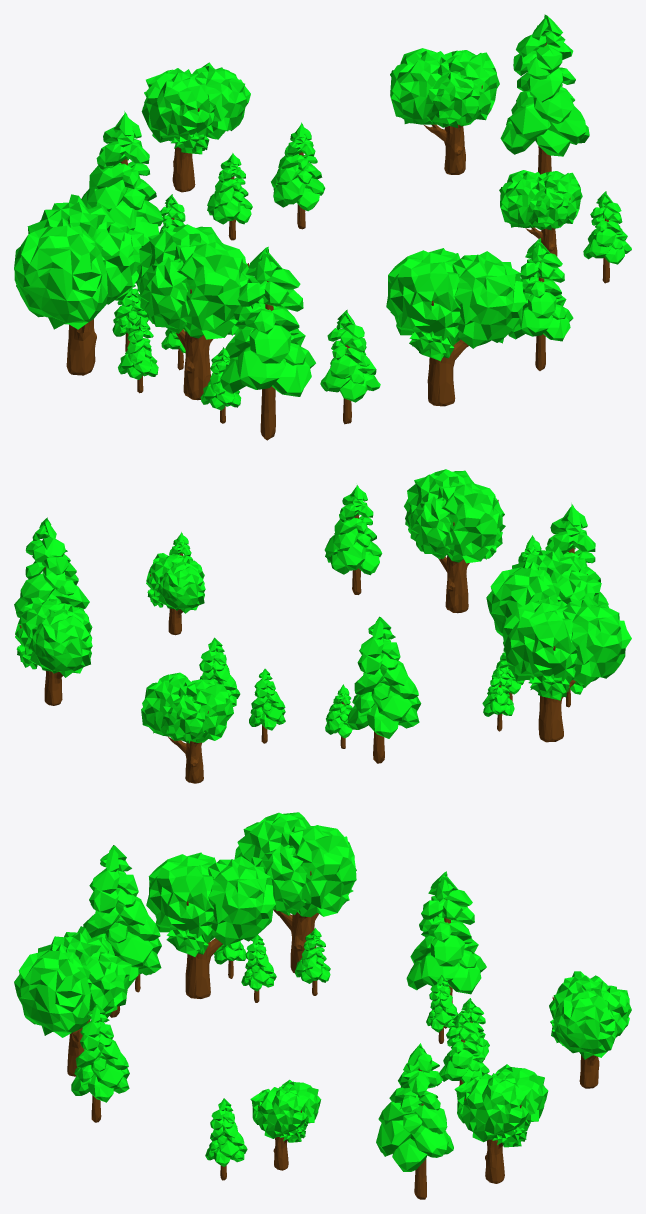
The model's file is Trees.fbx.
3 views of the same model, one above another, from view 1: azimuth 30°, elevation 25°; view 2: azimuth 150°, elevation 25°; view 3: azimuth 270°, elevation 25° (orthographic). The views are drawn at different scales.
Parts seen in each view (by area): view 1: Oak_1.004, Oak_1.001, Oak_1.003, Pine-2.002, Oak_1.002, Oak_1.005, Pine-2.005, Pine-2.004, Oak_1, Pine-2.001, Pine-1.006, Pine-2 (+6 smaller); view 2: Oak_1.004, Oak_1.001, Oak_1.005, Pine-2.004, Oak_1.002, Oak_1.003, Pine-2.005, Pine-2.001, Oak_1, Pine-2.002, Pine-2.003, Pine-2 (+2 smaller); view 3: Oak_1.003, Oak_1.004, Oak_1.001, Pine-2.005, Oak_1.002, Pine-2.004, Pine-2.002, Oak_1.005, Pine-2.001, Oak_1, Pine-2, Pine-1.001 (+5 smaller).
Part boxes in pixels (left/top/right/bottom): Oak_1.004: left=14, top=194, right=143, bottom=375; Oak_1.001: left=386, top=248, right=526, bottom=406; Oak_1.003: left=136, top=224, right=253, bottom=400; Pine-2.002: left=220, top=246, right=315, bottom=440; Oak_1.002: left=390, top=48, right=499, bottom=174; Oak_1.005: left=141, top=62, right=250, bottom=192; Pine-2.005: left=500, top=14, right=589, bottom=174; Pine-2.004: left=81, top=111, right=163, bottom=244; Oak_1: left=499, top=170, right=582, bottom=256; Pine-2.001: left=508, top=238, right=573, bottom=370; Pine-1.006: left=320, top=309, right=380, bottom=424; Pine-2: left=271, top=122, right=325, bottom=229; Oak_1.004: left=502, top=596, right=631, bottom=742; Oak_1.001: left=404, top=469, right=505, bottom=613; Oak_1.005: left=141, top=672, right=233, bottom=783; Pine-2.004: left=347, top=616, right=421, bottom=763; Oak_1.002: left=15, top=597, right=92, bottom=705; Oak_1.003: left=486, top=545, right=601, bottom=636; Pine-2.005: left=14, top=517, right=89, bottom=617; Pine-2.001: left=324, top=485, right=382, bottom=594; Oak_1: left=146, top=553, right=205, bottom=635; Pine-2.002: left=545, top=503, right=608, bottom=605; Pine-2.003: left=249, top=668, right=285, bottom=743; Pine-2: left=199, top=637, right=240, bottom=706; Oak_1.003: left=146, top=852, right=275, bottom=998; Oak_1.004: left=234, top=812, right=356, bottom=973; Oak_1.001: left=14, top=926, right=131, bottom=1076; Pine-2.005: left=376, top=1043, right=453, bottom=1199; Oak_1.002: left=454, top=1064, right=548, bottom=1183; Pine-2.004: left=406, top=871, right=486, bottom=1028; Pine-2.002: left=83, top=845, right=161, bottom=1017; Oak_1.005: left=549, top=971, right=631, bottom=1088; Pine-2.001: left=71, top=1004, right=129, bottom=1122; Oak_1: left=250, top=1079, right=321, bottom=1170; Pine-2: left=439, top=1010, right=489, bottom=1085; Pine-1.001: left=205, top=1098, right=247, bottom=1180.
Size of the model in its own units: 2605 by 745 by 2428.
